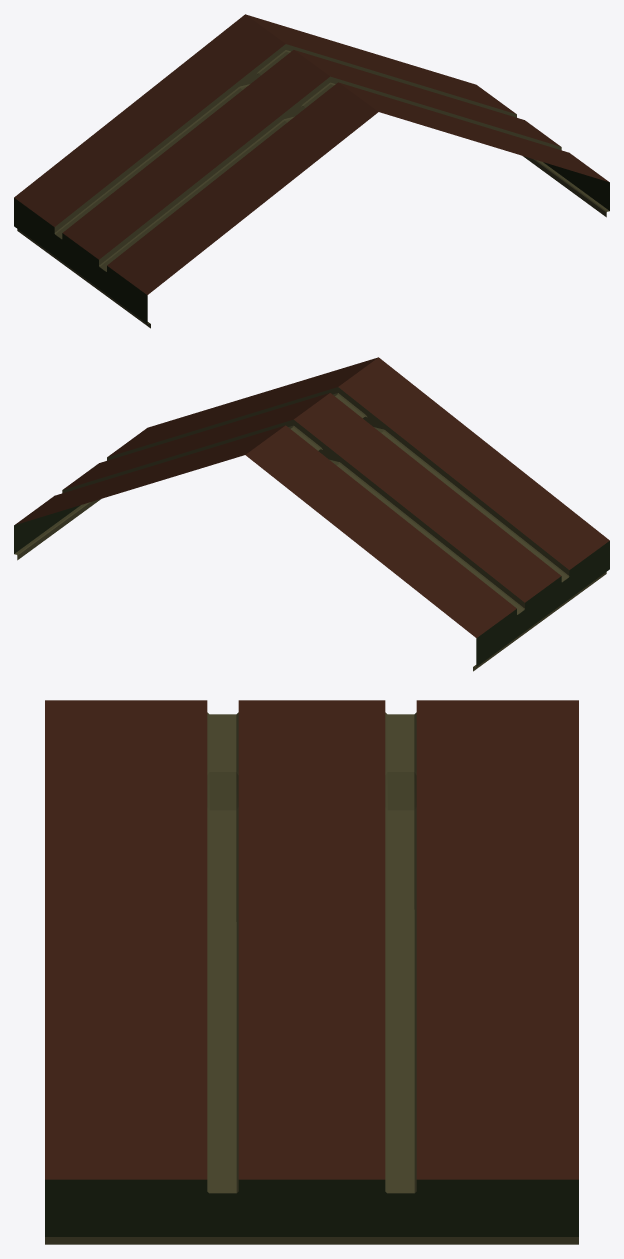
Rendered from vind_roofwall.fbx.
The picture shows the model from 3 angles, top to bottom: view 1: azimuth 30°, elevation 25°; view 2: azimuth 150°, elevation 25°; view 3: azimuth 270°, elevation 25°; orthographic projection. The views are drawn at different scales.
Parts seen in each view (by area): view 1: vind_roofwall; view 2: vind_roofwall; view 3: vind_roofwall.
Boxes of the visible parts, left/top/right/bottom form: vind_roofwall: left=14, top=14, right=609, bottom=328; vind_roofwall: left=14, top=357, right=609, bottom=671; vind_roofwall: left=45, top=700, right=578, bottom=1244.
Size of the model in its own units: 30 by 9.98 by 15.
